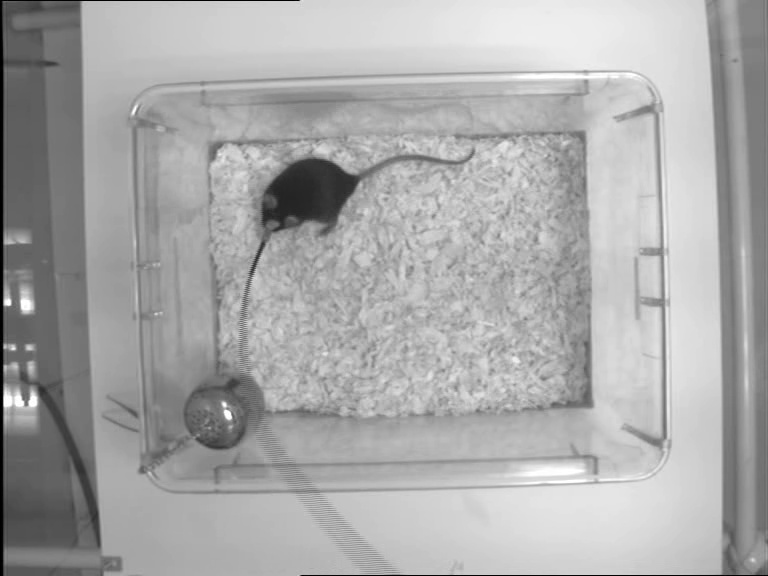mice: (253, 142, 476, 239)
